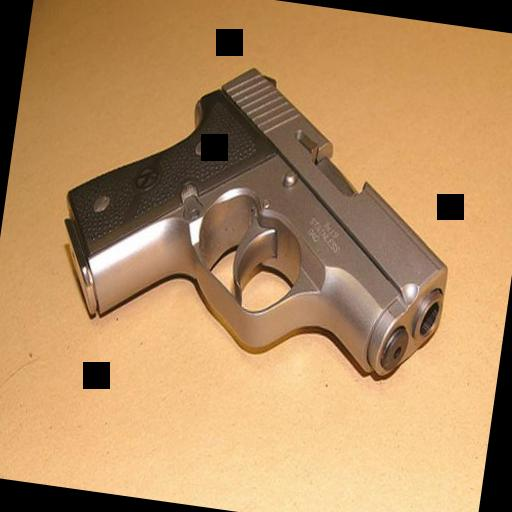Handgun: (46, 46, 472, 384)
